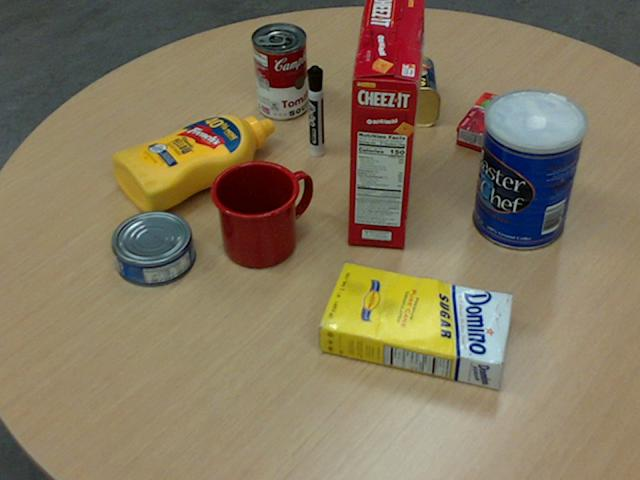cracker_box: (345, 0, 425, 247)
gelatin_box: (456, 90, 538, 158)
large_marker: (307, 64, 323, 155)
master_chef_can: (472, 89, 586, 251)
mug: (209, 159, 311, 267)
mustard_bottle: (111, 113, 274, 211)
potted_meat_can: (359, 55, 441, 126)
sugar_box: (316, 262, 513, 390)
tomato_soup_can: (253, 20, 308, 117)
tuna_fish_can: (110, 208, 194, 284)
